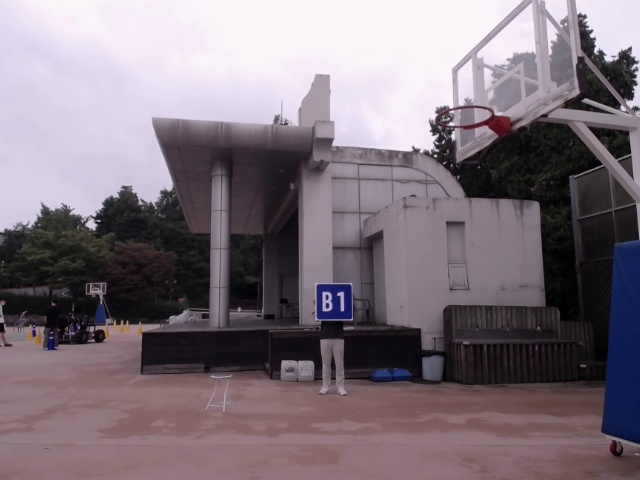delivery_b1: (315, 283, 353, 320)
